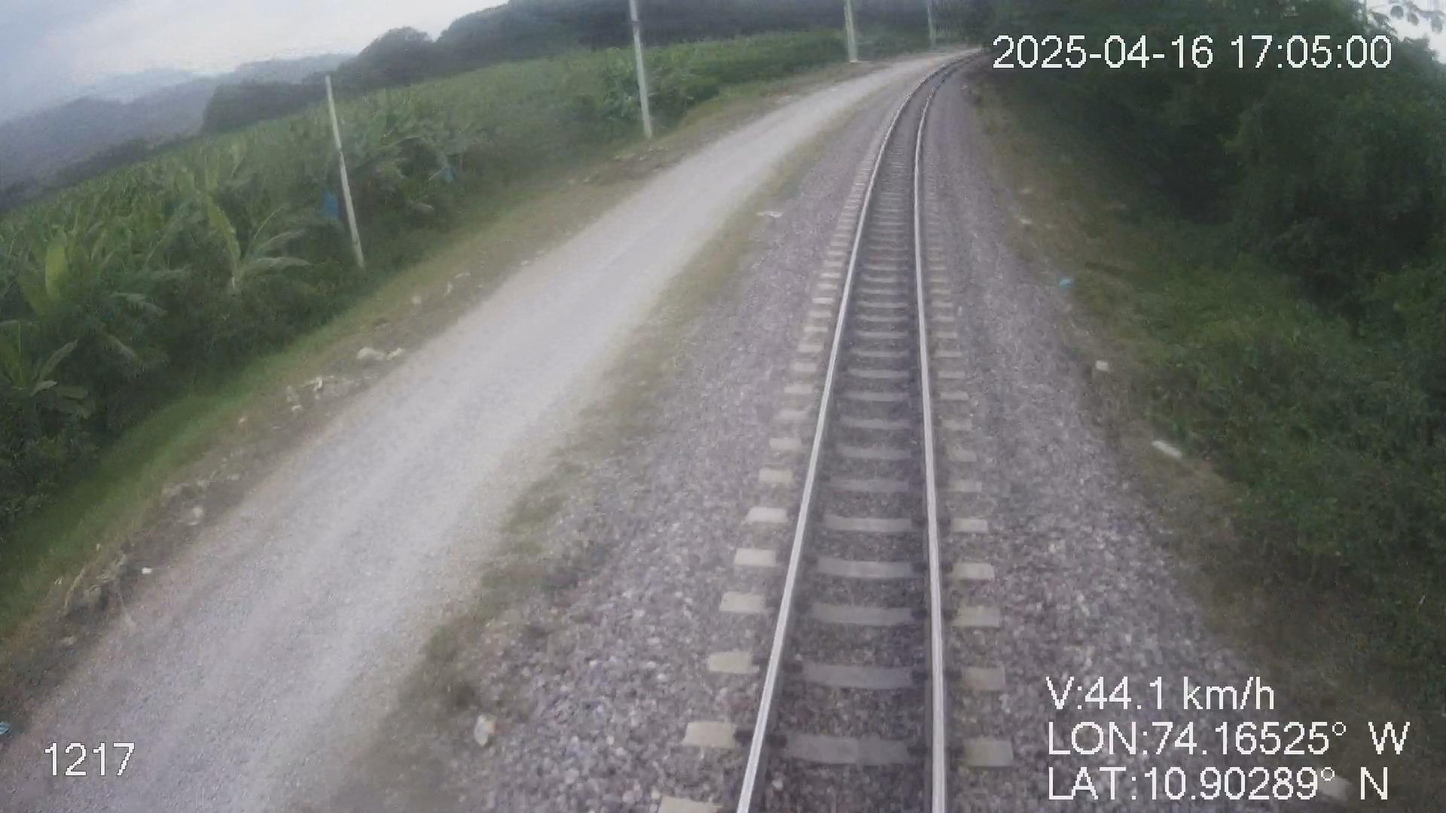Pasto: (0, 19, 898, 694), (981, 53, 1445, 779)
